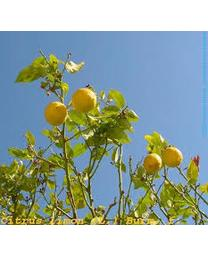lemon: (72, 89, 97, 112), (46, 103, 68, 124), (163, 147, 183, 166), (143, 152, 162, 171)
